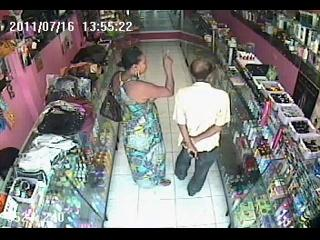Normal: (110, 47, 176, 189), (172, 57, 232, 197)
